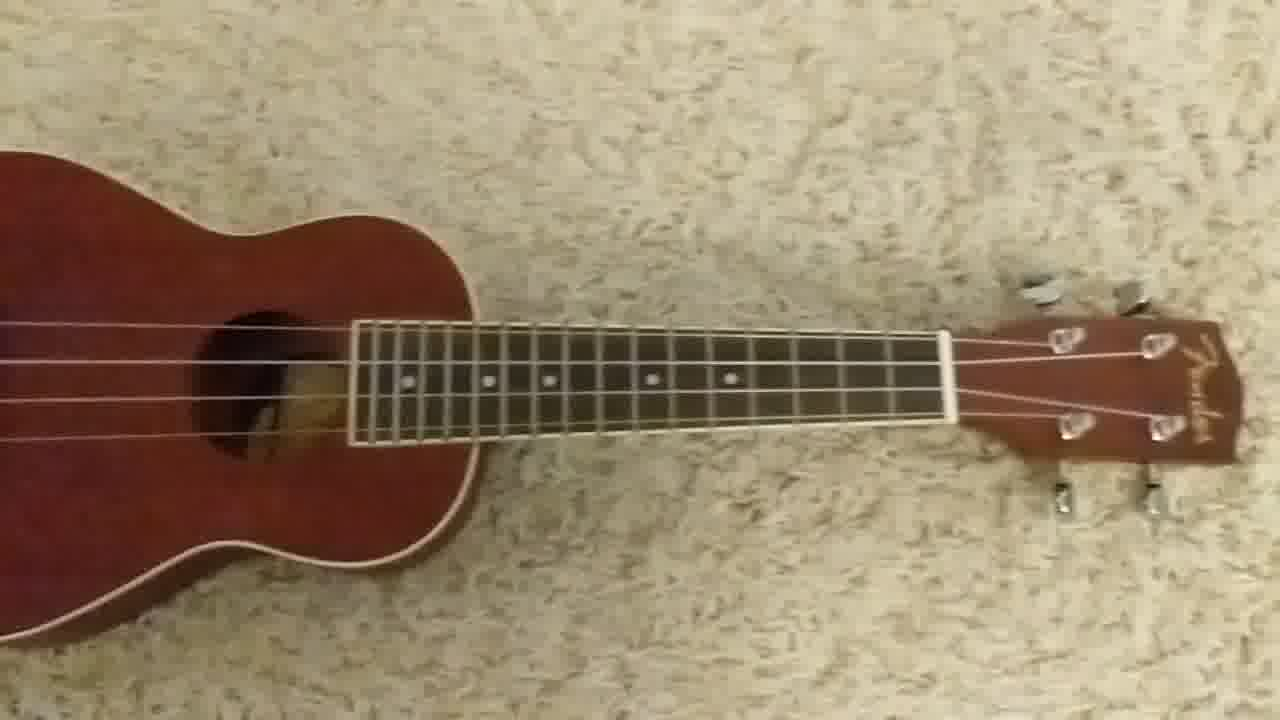Body: (1, 148, 487, 641)
Headstock: (953, 274, 1244, 528)
